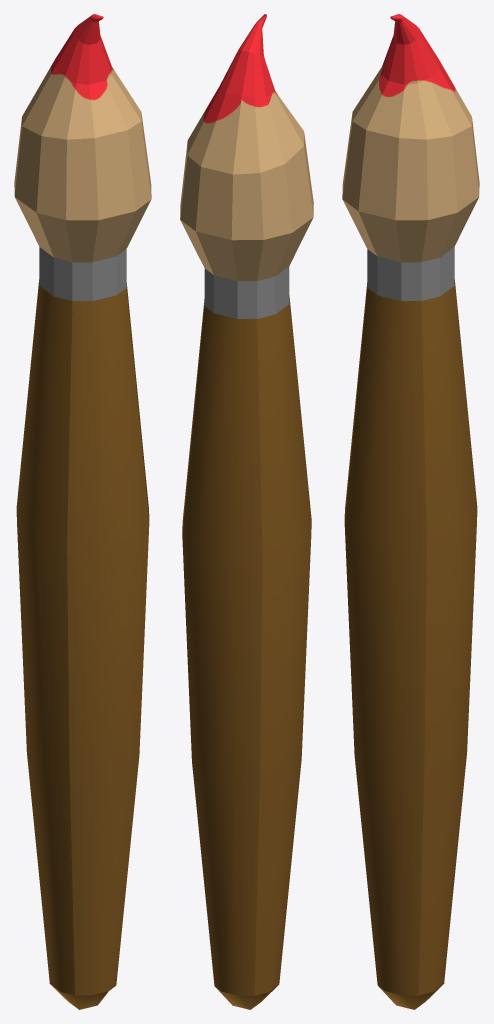
File: pincel.fbx
3 views of the same model, side by side, from view 1: azimuth 30°, elevation 25°; view 2: azimuth 150°, elevation 25°; view 3: azimuth 330°, elevation 25° (orthographic). The views are drawn at different scales.
Parts seen in each view (by area): view 1: Box001; view 2: Box001; view 3: Box001.
Boxes of the visible parts, <box> form: Box001: <box>14,14,151,1009</box>; Box001: <box>180,14,313,1009</box>; Box001: <box>342,14,479,1009</box>.
Bounding box in the file's own units: 34.13 × 284 × 35.15.
Materials: 1 (1 with a texture image).
